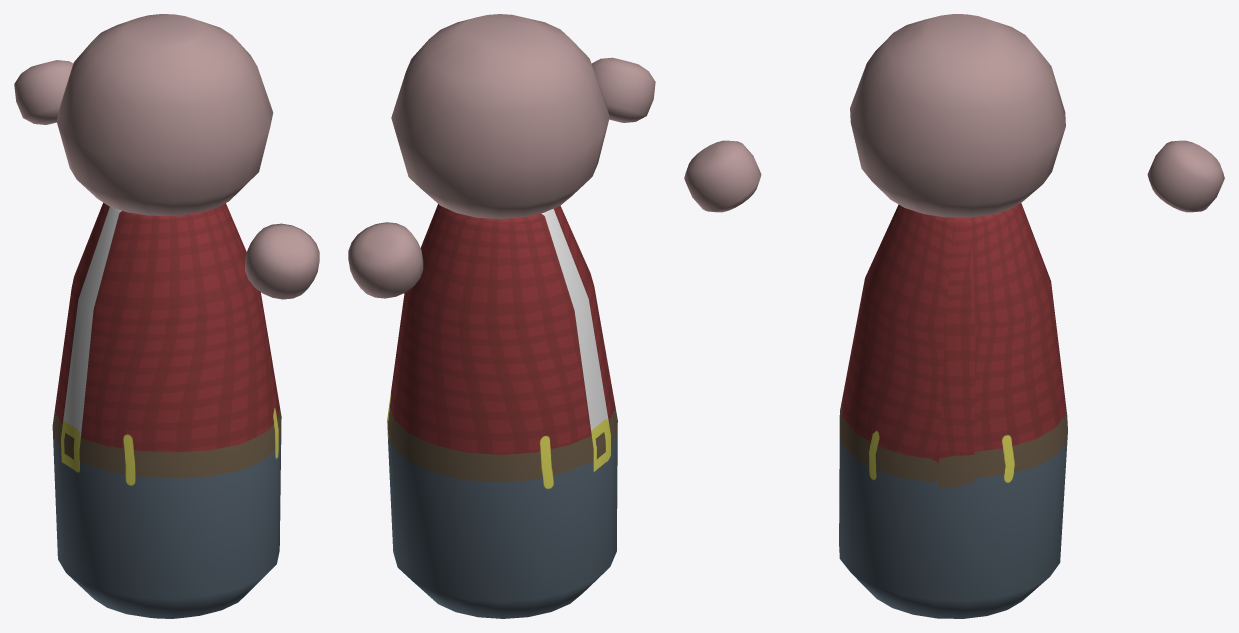
The model's file is Bandmember1.fbx.
The picture shows the model from 3 angles, left to right: view 1: azimuth 30°, elevation 25°; view 2: azimuth 150°, elevation 25°; view 3: azimuth 270°, elevation 25°; orthographic projection.
Parts seen in each view (by area): view 1: Body, Head, Right_Hand, Left_Hand; view 2: Body, Head, Left_Hand, Right_Hand; view 3: Body, Head, Left_Hand, Right_Hand.
Boxes of the visible parts, x1,y1,x2,y2 form: Body: (52, 202, 281, 618); Head: (56, 14, 273, 216); Right_Hand: (245, 223, 319, 299); Left_Hand: (14, 60, 73, 124); Body: (387, 204, 617, 618); Head: (391, 14, 609, 219); Left_Hand: (348, 222, 423, 298); Right_Hand: (591, 57, 655, 122); Body: (839, 203, 1067, 618); Head: (850, 14, 1065, 217); Left_Hand: (1147, 140, 1224, 212); Right_Hand: (684, 140, 761, 212).
Size of the model in its own units: 1.29 by 3.56 by 3.06.
